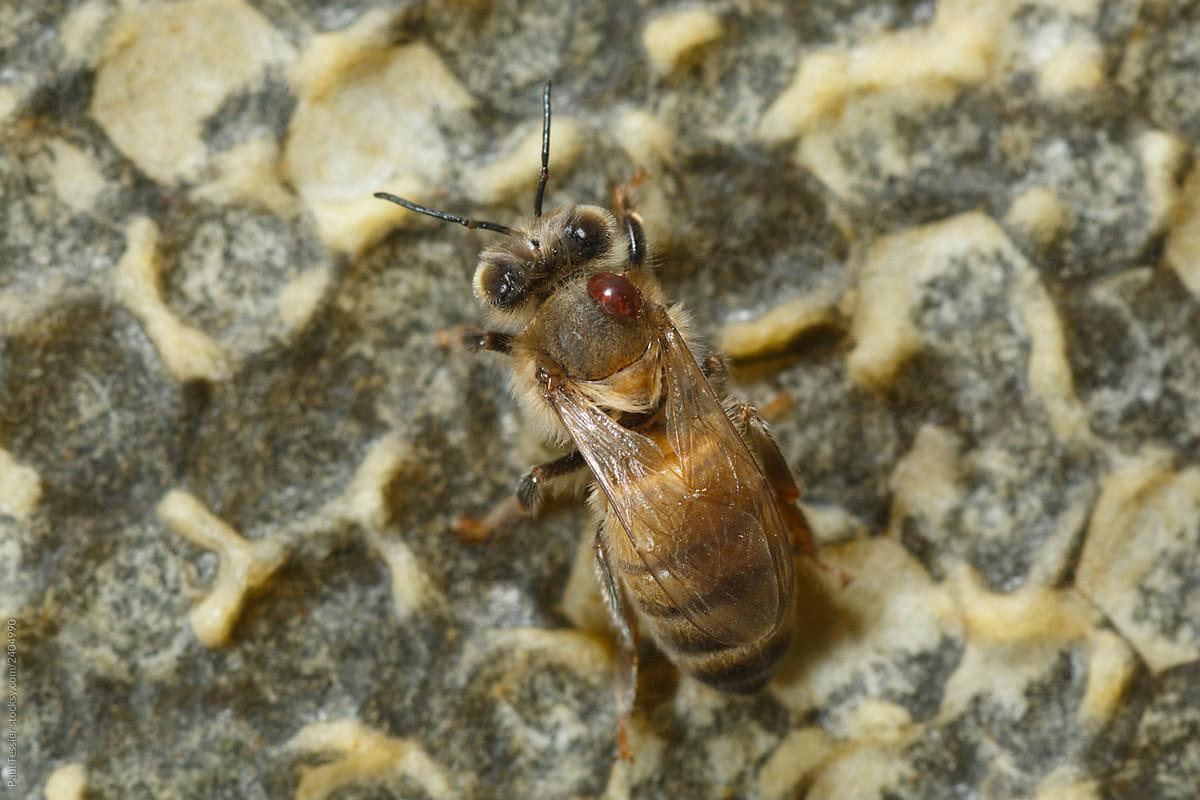worker-bee: (384, 88, 814, 756)
